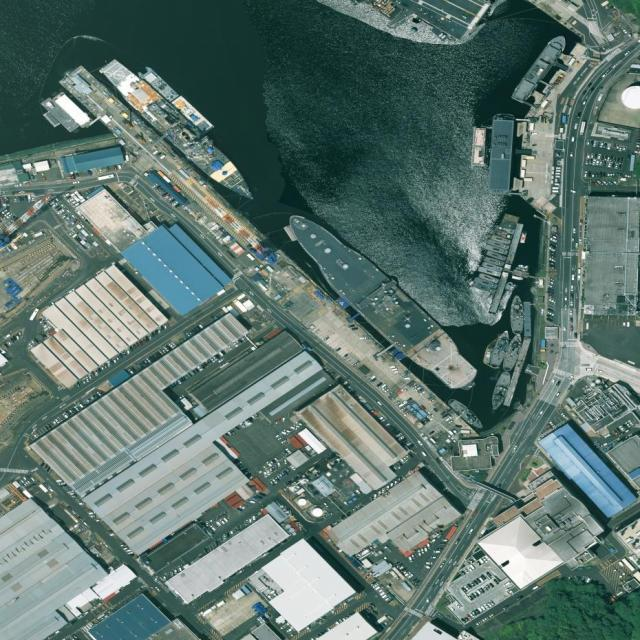Commander: (276, 202, 485, 401)
Destroyer: (96, 52, 260, 211)
Other Ship: (487, 370, 513, 412), (489, 328, 512, 370), (501, 332, 524, 373), (510, 295, 524, 334)
Other Warship: (509, 32, 570, 106)
